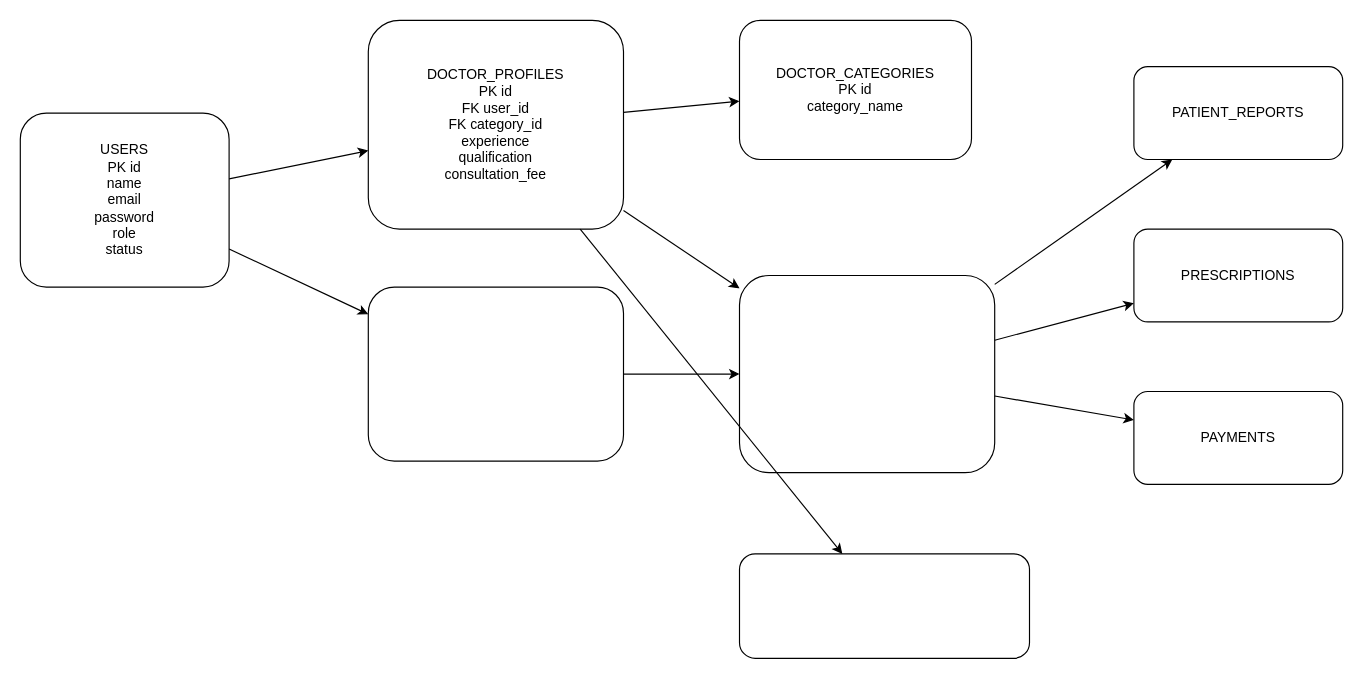
This 1363x679 diagram has some shape labels left out. Each missing label, with the centre of its shape:
APPOINTMENTS PK id FK doctor_id FK patient_id date time status: the point at 866,373
DOCTOR_SALARY_TRANSACTIONS: the point at 884,605
PATIENT_PROFILES PK id FK user_id age gender blood_group: the point at 495,373
